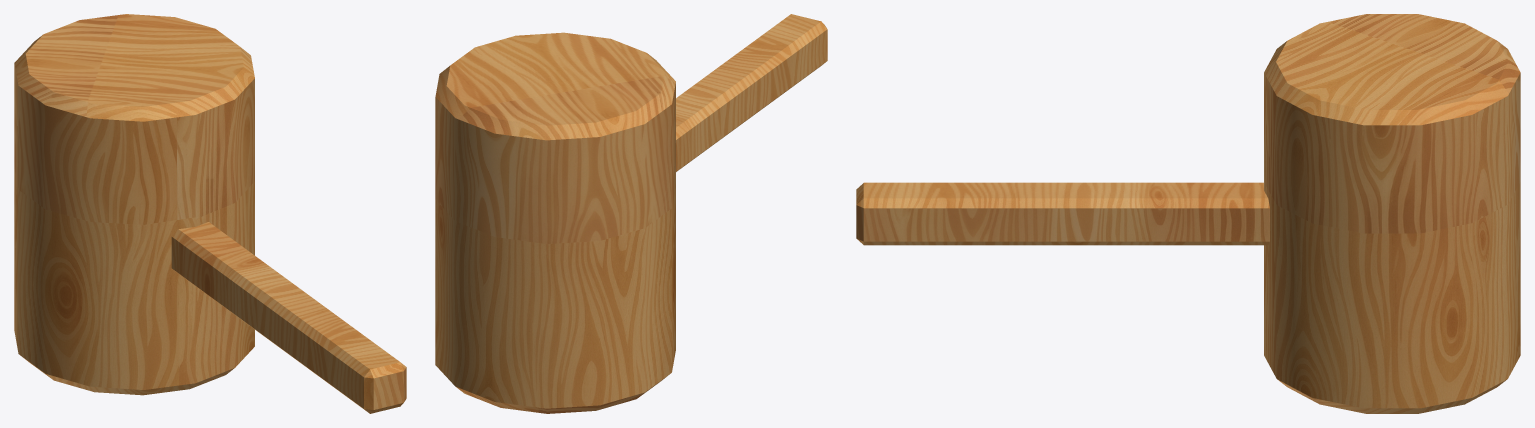
The model's file is Wooden_Hammer.fbx.
The picture shows the model from 3 angles, left to right: view 1: azimuth 30°, elevation 25°; view 2: azimuth 150°, elevation 25°; view 3: azimuth 270°, elevation 25°; orthographic projection. The views are drawn at different scales.
Visible parts, largest first — view 1: Wooden_Hammer; view 2: Wooden_Hammer; view 3: Wooden_Hammer.
Boxes of the visible parts, x1,y1,x2,y2 form: Wooden_Hammer: (14, 14, 406, 413); Wooden_Hammer: (435, 14, 827, 413); Wooden_Hammer: (856, 14, 1520, 413).
Size of the model in its own units: 33.57 by 45.03 by 89.15.
